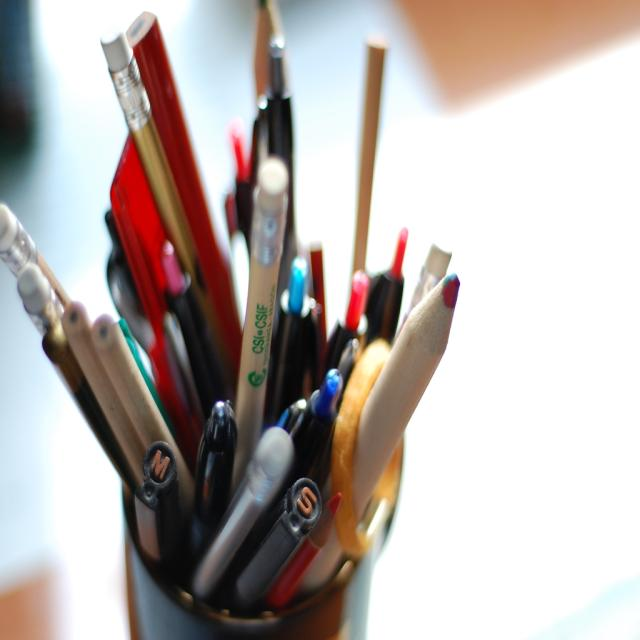pen: (134, 369, 341, 614), (104, 200, 175, 429), (246, 32, 298, 301)
